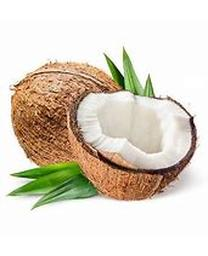coconut: (66, 88, 197, 202), (10, 60, 126, 175)
